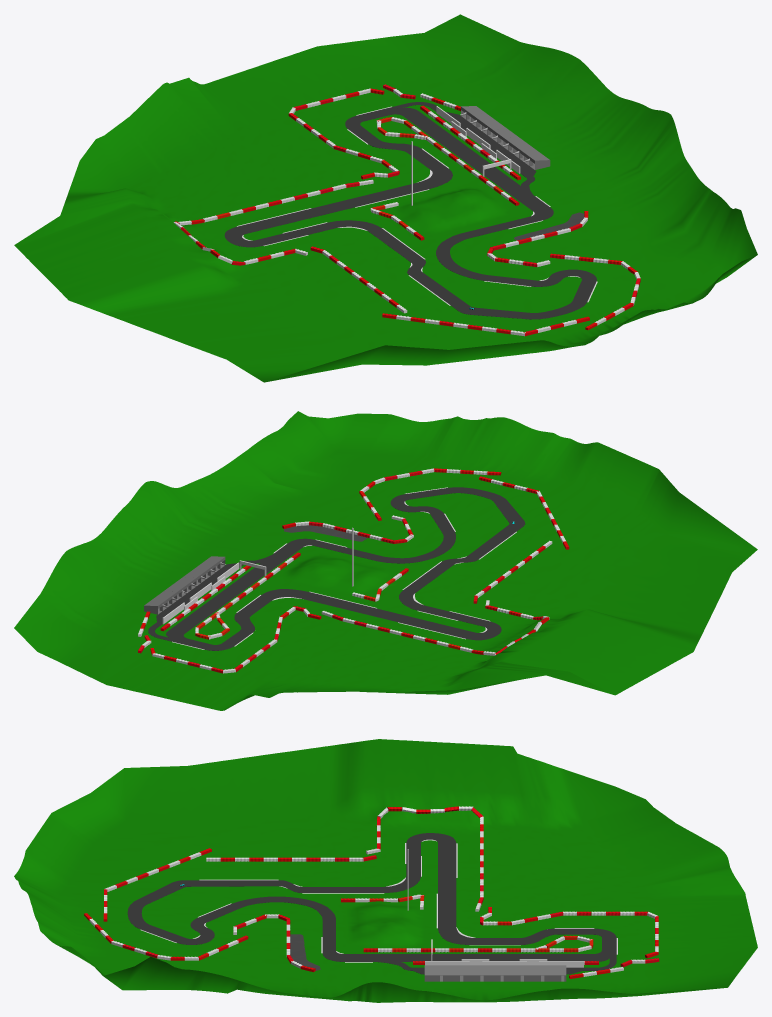
The model's file is Race Track.fbx.
3 views of the same model, one above another, from view 1: azimuth 30°, elevation 25°; view 2: azimuth 150°, elevation 25°; view 3: azimuth 270°, elevation 25° (orthographic). The views are drawn at different scales.
Parts seen in each view (by area): view 1: Grass, track, Pitlane; view 2: Grass, track, Pitlane, Grass.001; view 3: Grass, track, Grass.001, Pitlane.
Boxes of the visible parts, box(x1,y1,x2,y2) form: Grass: box(14, 14, 757, 382); track: box(224, 107, 596, 319); Pitlane: box(386, 102, 536, 194); Grass: box(14, 411, 757, 710); track: box(166, 487, 525, 650); Pitlane: box(148, 555, 271, 642); Grass.001: box(284, 525, 367, 541); Grass: box(14, 739, 757, 1002); track: box(127, 833, 616, 961); Grass.001: box(290, 934, 320, 970); Pitlane: box(378, 952, 616, 974).
Size of the model in its own units: 29247 by 3146 by 32730.
